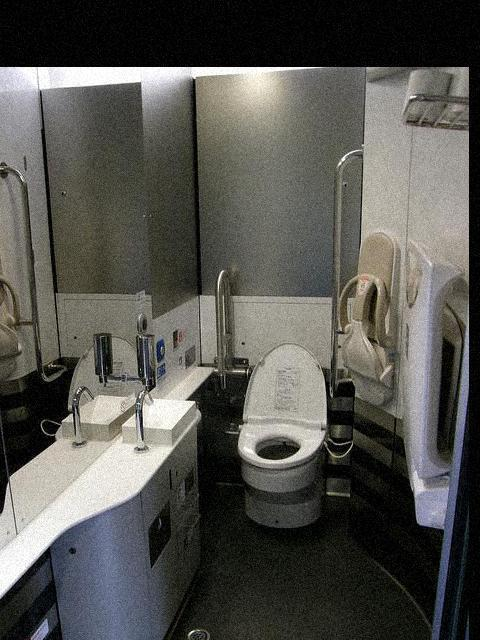Lavamanos: (119, 383, 210, 462)
Sanitario: (236, 338, 334, 527)
